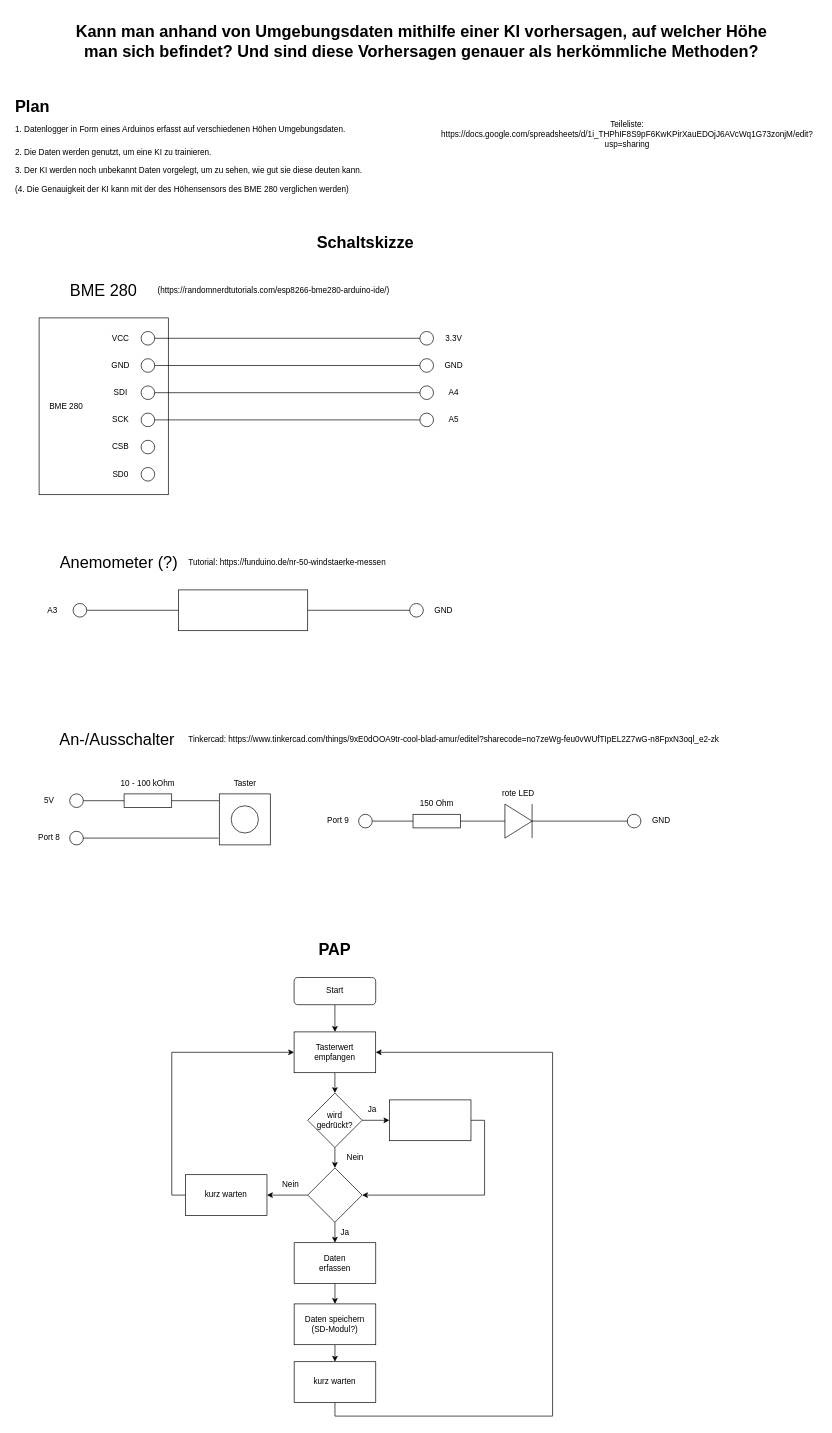
Some shapes in this 832 by 1433 pixel diagram are drawn without their labels. Each missing label, with the centre of its shape:
"Anemometer" goes at point 243,610.
"running == 1?" goes at point 334,1194.
"setzte running auf das Gegenteil" goes at point 430,1120.
